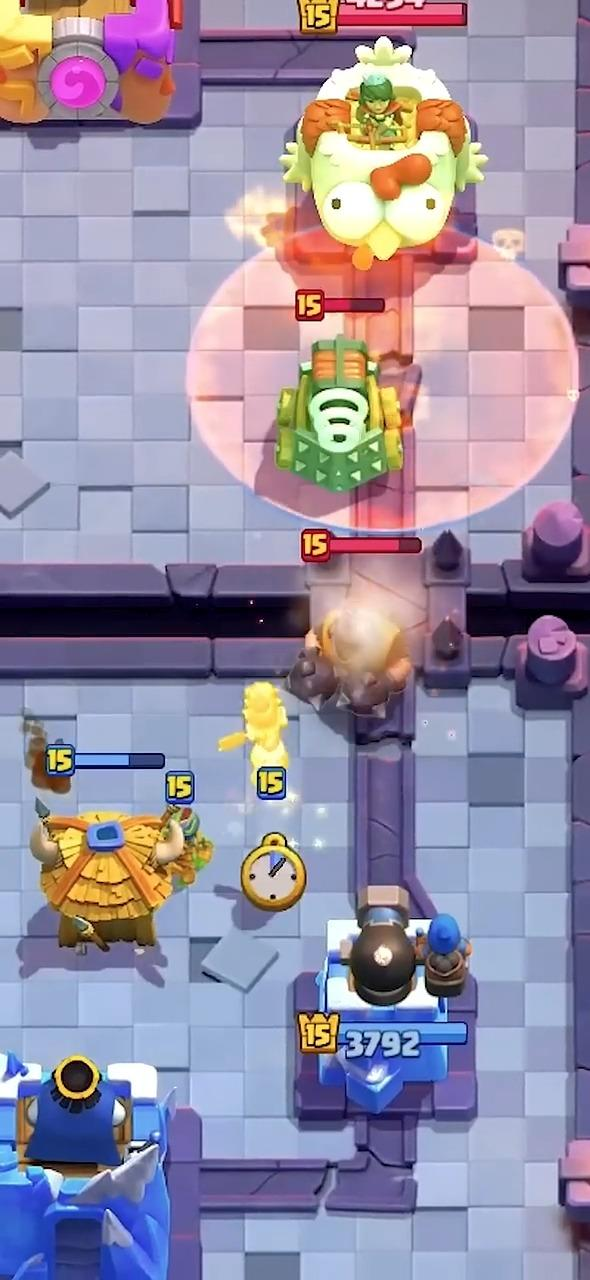goblin hut: (29, 806, 194, 952)
mega knight: (290, 600, 411, 717)
poison: (186, 209, 578, 532)
sparky: (276, 336, 401, 493), (470, 477, 473, 482)
spear goblin: (172, 807, 212, 884)
valkyrie: (219, 681, 288, 789)
